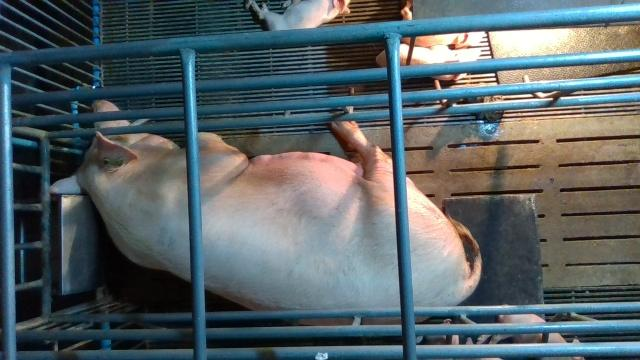piglet: (478, 304, 586, 360), (375, 42, 482, 81), (246, 0, 350, 31)
sow-sleep: (50, 98, 484, 324)
